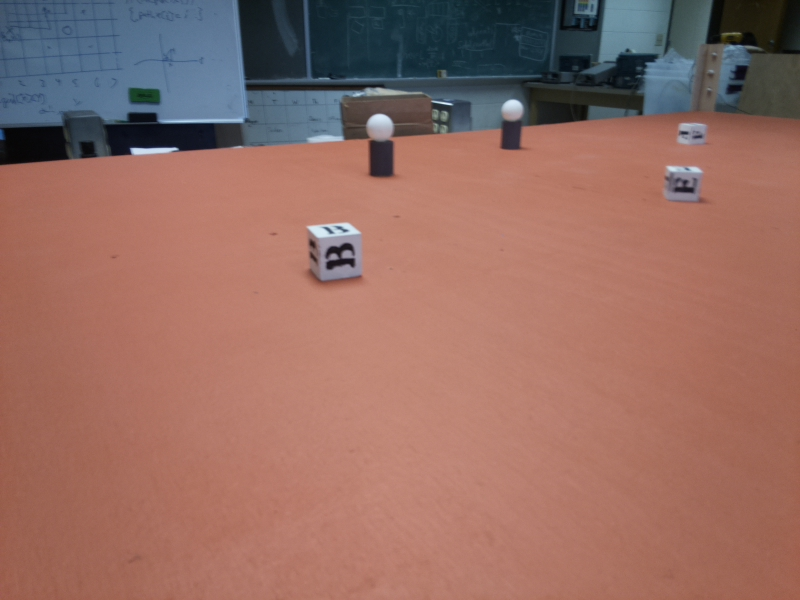blockB: (307, 221, 366, 287)
blockE: (663, 163, 704, 203)
corner: (694, 43, 720, 113)
obstacle: (363, 114, 403, 177), (496, 96, 524, 154)
